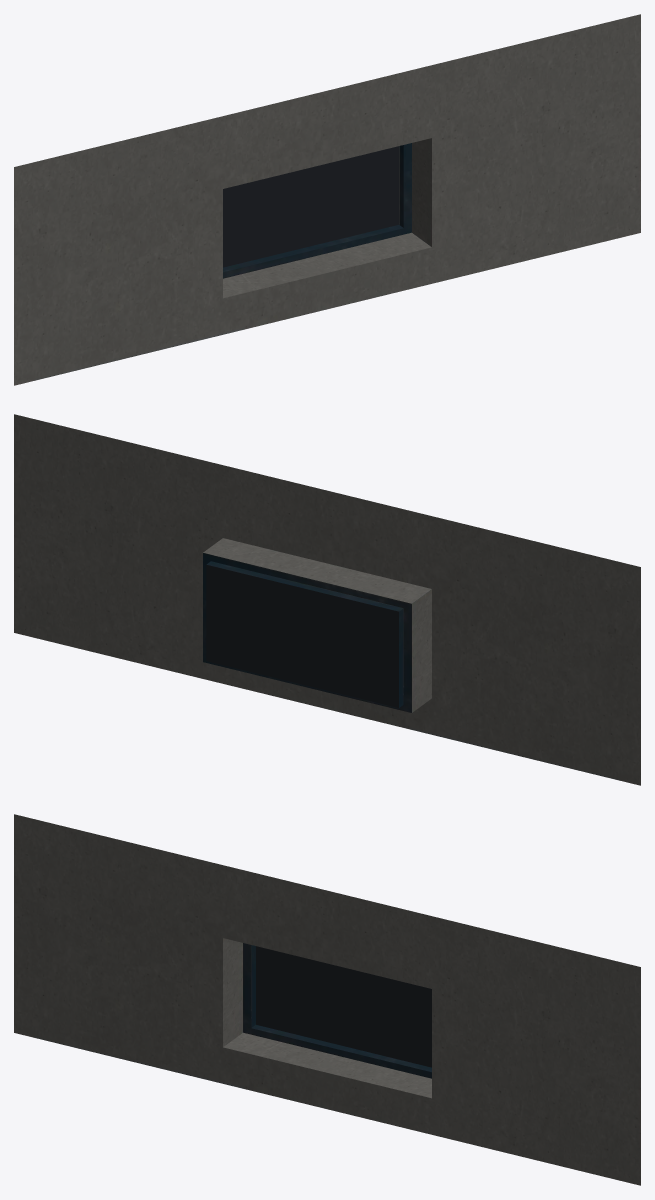
File: sm_cb01_module03.glb
3 renders of one model, top to bottom at view 1: azimuth 30°, elevation 25°; view 2: azimuth 150°, elevation 25°; view 3: azimuth 330°, elevation 25°, orthographic.
Parts seen in each view (by area): view 1: sm_cb01_module03; view 2: sm_cb01_module03; view 3: sm_cb01_module03.
Part boxes in pixels (box(x1,y1,x2,y2)): sm_cb01_module03: box(14, 14, 640, 385); sm_cb01_module03: box(14, 414, 640, 785); sm_cb01_module03: box(14, 814, 640, 1185).
Bounding box in the file's own units: 9 × 3 × 0.6175.
Materials: 2 (1 with a texture image).
